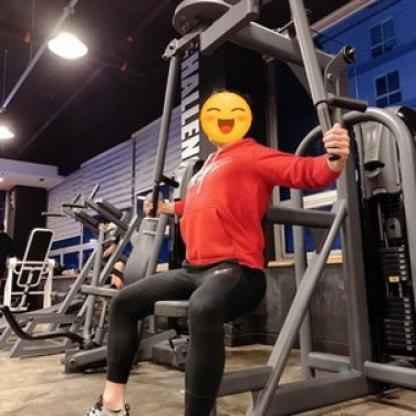chest fly machine: (76, 0, 415, 377)
